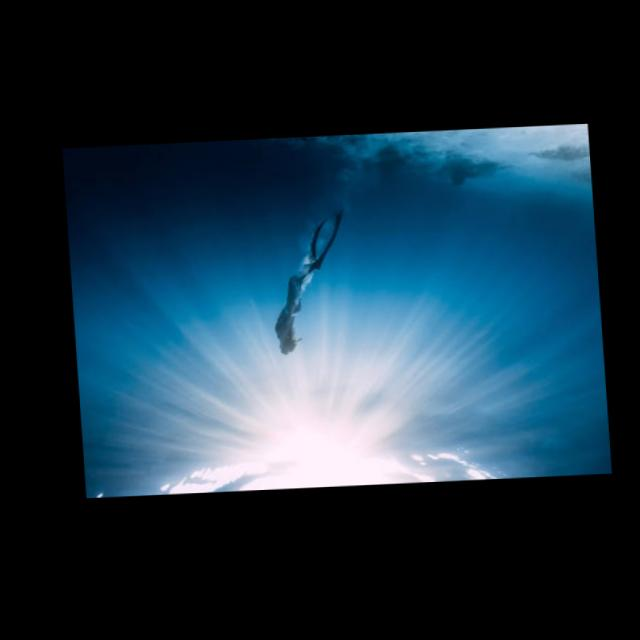human: (260, 213, 346, 358)
